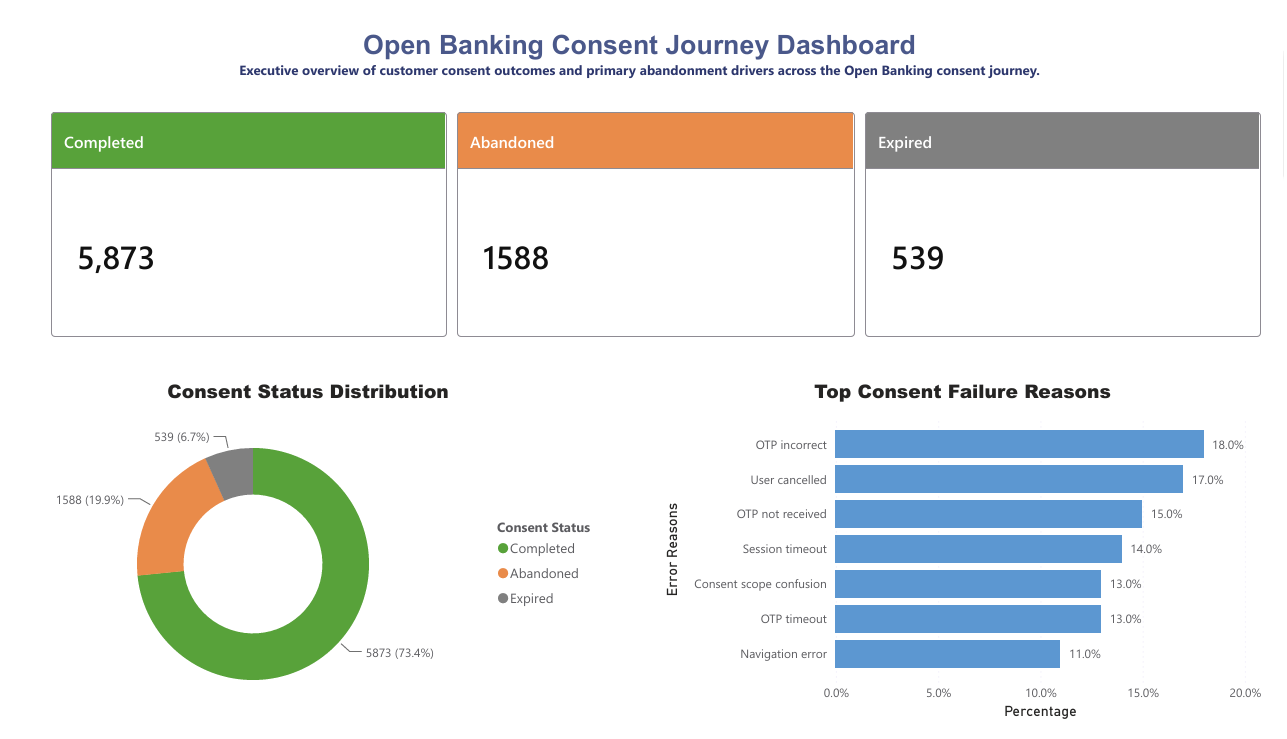

Layout of this report page (visuals, bound fields, positions):
{"tool":"powerbi","page":{"name":"Page 1","canvas":[1280,720],"ordinal":0},"visuals":[{"type":"donutChart","fields":{"Category":["public vw_consent_status_summary.consent_status"],"Y":["Sum(public vw_consent_status_summary.journey_count)"]},"box":[17.8,372.3,580.5,347.4],"z":0},{"type":"clusteredBarChart","fields":{"Category":["public vw_cba_abandoned_errors.error_reason"],"Y":["Sum(public vw_cba_abandoned_errors.percentage)"]},"box":[629.3,372.3,650.7,347.4],"z":1000},{"type":"cardVisual","fields":{"Data":["Sum(public vw_consent_status_summary.journey_count)"],"Rows":["public vw_consent_status_summary.consent_status"]},"box":[0,78.5,422.3,281.9],"z":2000},{"type":"cardVisual","fields":{"Data":["Sum(public vw_consent_status_summary.journey_count)"],"Rows":["public vw_consent_status_summary.consent_status"]},"box":[417.5,78.5,422.3,281.9],"z":3000},{"type":"cardVisual","fields":{"Data":["Sum(public vw_consent_status_summary.journey_count)"],"Rows":["public vw_consent_status_summary.consent_status"]},"box":[839.9,78.5,422.3,281.9],"z":4000},{"type":"textbox","box":[34.5,19,1202.7,76.1],"z":4001}]}

Visuals, with their boxes in screenshot pixels (x1, y1, x2, y2), scaled from the page's 1280x720 canvas onto the 1287x739 screenshot:
donutChart - public vw_consent_status_summary.consent_status x Sum(public vw_consent_status_summary.journey_count): 18, 382, 602, 738
clusteredBarChart - public vw_cba_abandoned_errors.error_reason x Sum(public vw_cba_abandoned_errors.percentage): 633, 382, 1286, 738
cardVisual - Sum(public vw_consent_status_summary.journey_count) x public vw_consent_status_summary.consent_status: 0, 81, 425, 370
cardVisual - Sum(public vw_consent_status_summary.journey_count) x public vw_consent_status_summary.consent_status: 420, 81, 844, 370
cardVisual - Sum(public vw_consent_status_summary.journey_count) x public vw_consent_status_summary.consent_status: 844, 81, 1269, 370
textbox: 35, 20, 1244, 98
